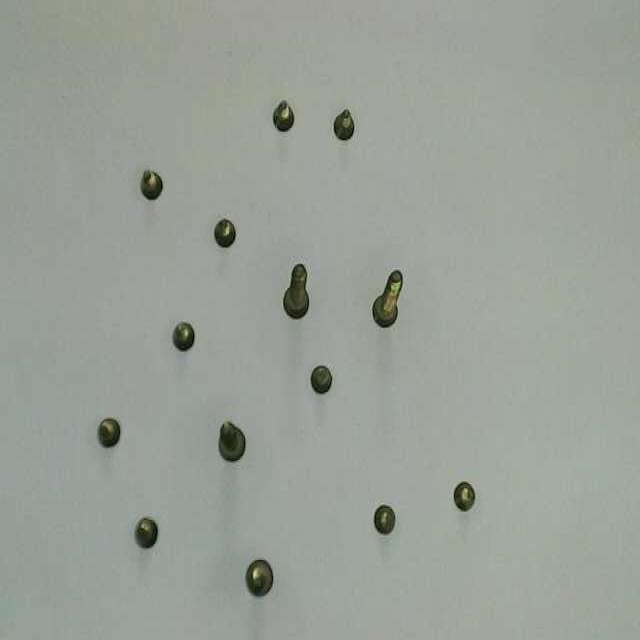Parafuso: (372, 270, 402, 327), (283, 264, 308, 318), (218, 422, 245, 462), (245, 559, 273, 597), (272, 100, 294, 131), (135, 518, 157, 549), (97, 418, 120, 447), (333, 110, 354, 141), (140, 170, 162, 199), (453, 482, 475, 511), (374, 504, 395, 534), (172, 322, 194, 350), (214, 219, 235, 247), (310, 366, 331, 393)
